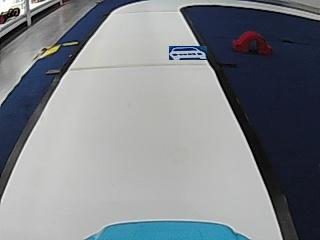bridge: (231, 30, 270, 54)
